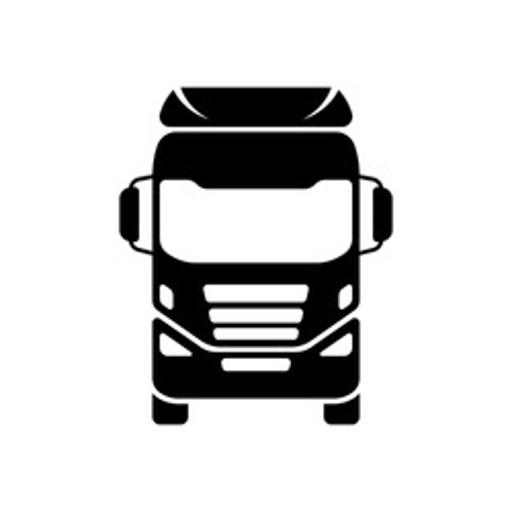truck: (116, 86, 394, 426)
